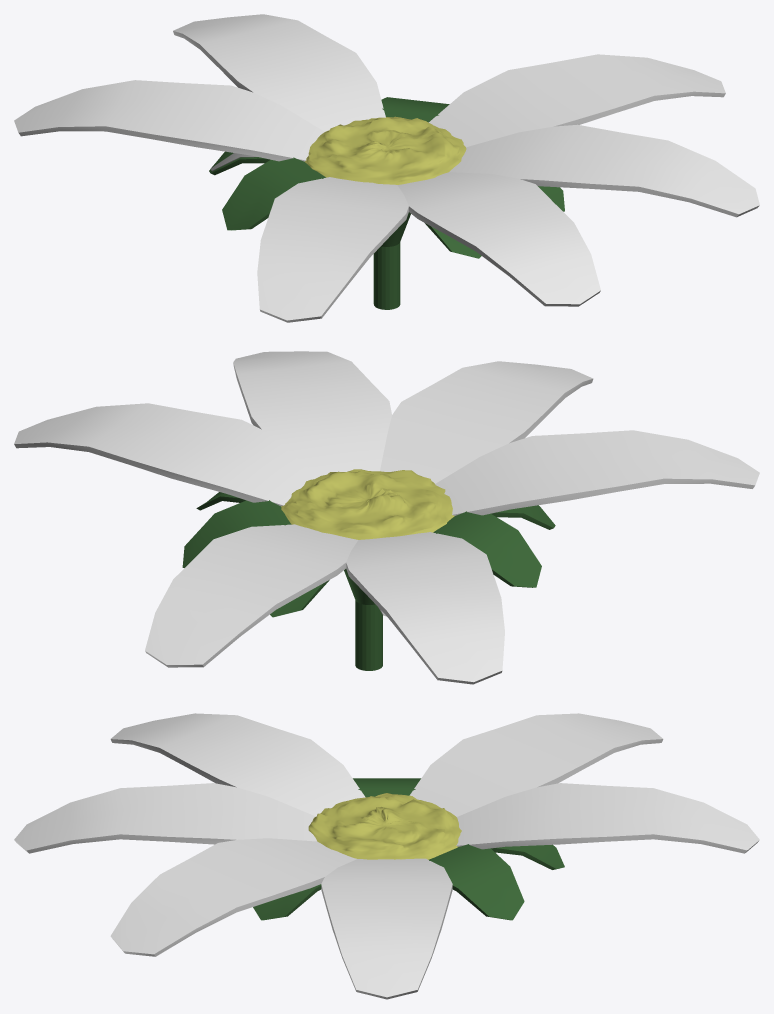
Rendered from flower2.fbx.
The picture shows the model from 3 angles, top to bottom: view 1: azimuth 30°, elevation 25°; view 2: azimuth 150°, elevation 25°; view 3: azimuth 270°, elevation 25°; orthographic projection. The views are drawn at different scales.
Visible parts, largest first — view 1: pCube9, pCube14, pCube15, pCube13, pCube12, pCube10, pSphere1, pCube1, pCone1, pCube4, pCube7; view 2: pCube10, pCube15, pCube9, pCube12, pCube14, pCube13, pSphere1, pCube1, pCube4, pCone1, pCube8, pCube3; view 3: pCube10, pCube13, pCube12, pCube14, pCube9, pCube15, pSphere1, pCube4, pCube6, pCube1, pCube3.
Part boxes in pixels (x1,y1,x2,y2): pCube9: [14, 80, 324, 161]; pCube14: [397, 172, 600, 306]; pCube15: [257, 177, 408, 322]; pCube13: [449, 124, 759, 217]; pCube12: [428, 54, 725, 147]; pCube10: [173, 14, 385, 131]; pSphere1: [304, 116, 466, 184]; pCube1: [222, 157, 325, 230]; pCone1: [373, 212, 410, 309]; pCube4: [381, 97, 449, 122]; pCube7: [425, 223, 481, 258]; pCube10: [145, 524, 357, 667]; pCube15: [435, 430, 759, 515]; pCube9: [346, 532, 504, 684]; pCube12: [14, 403, 317, 506]; pCube14: [380, 361, 593, 483]; pCube13: [233, 351, 391, 476]; pSphere1: [281, 469, 454, 539]; pCube1: [433, 511, 541, 587]; pCube4: [182, 500, 291, 567]; pCone1: [344, 569, 382, 670]; pCube8: [491, 505, 555, 529]; pCube3: [270, 580, 329, 617]; pCube10: [456, 783, 759, 853]; pCube13: [110, 838, 356, 956]; pCube12: [321, 858, 452, 999]; pCube14: [14, 783, 316, 853]; pCube9: [409, 713, 663, 816]; pCube15: [110, 713, 365, 816]; pSphere1: [308, 793, 461, 859]; pCube4: [428, 844, 524, 920]; pCube6: [253, 884, 321, 920]; pCube1: [353, 778, 420, 797]; pCube3: [491, 844, 564, 869].
Bounding box in the file's own units: 17.45 × 4.91 × 20.04.
